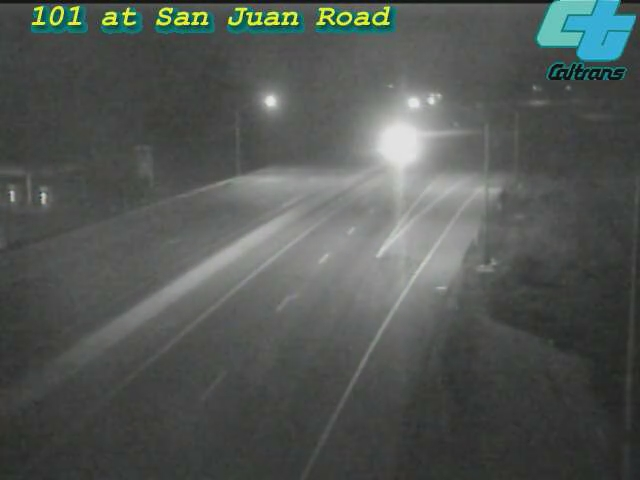vehicle: (369, 120, 419, 170)
